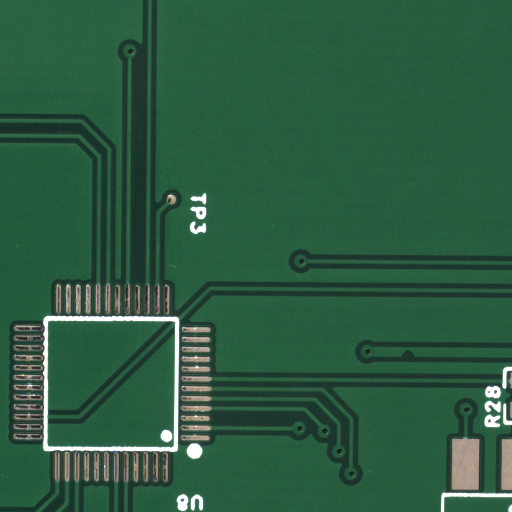Mouse_bite: (408, 353, 425, 362)
